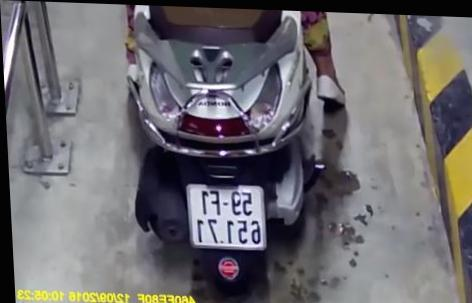License_Plate: (176, 176, 275, 259)
